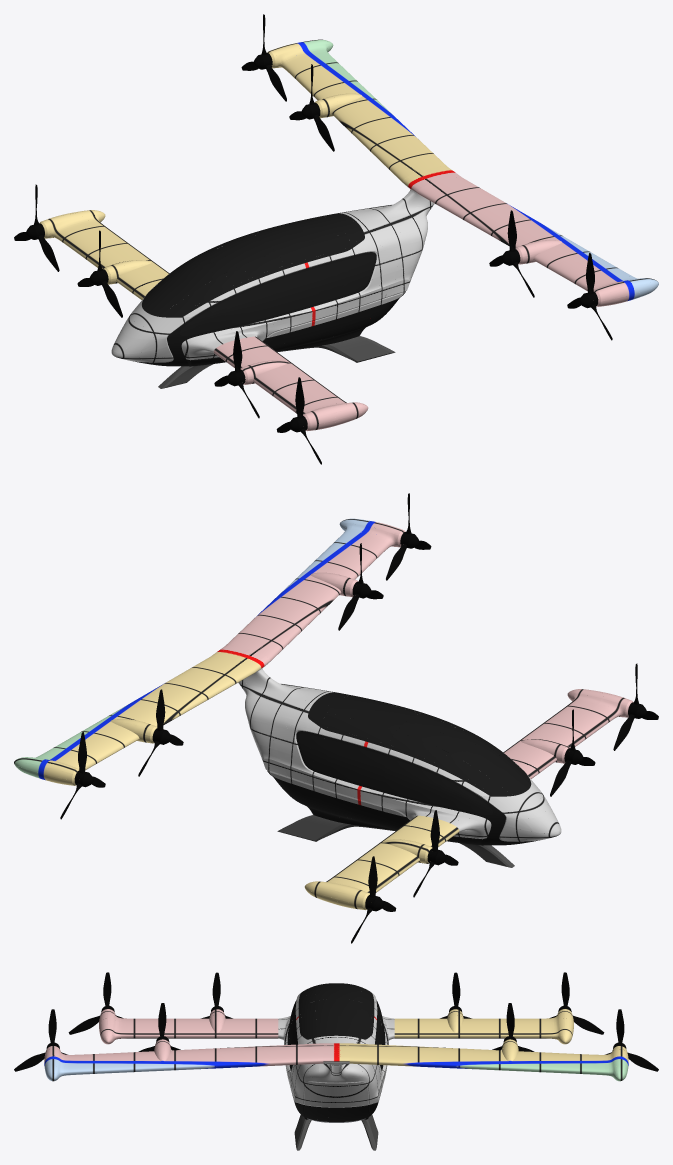
The model's file is aircraft_ar_offset_trial.glb.
3 renders of one model, top to bottom at view 1: azimuth 30°, elevation 25°; view 2: azimuth 150°, elevation 25°; view 3: azimuth 270°, elevation 25°, orthographic. The views are drawn at different scales.
Parts seen in each view (by area): view 1: SubdivFace#121687_5pct.001, SubdivFace#122001_5pct.001, SubdivFace#122443_5pct.001, SubdivFace#122271_5pct.001, SubdivFace#122562_trimdivide#22_5pct.001, SubdivFace#122435_5pct.001, SubdivFace#122009_5pct.001, SubdivFace#121698_5pct.001, SubdivFace#122561_5pct.001, SubdivFace#122265_5pct.001, SubdivFace#122564_trimdivide#16_5pct.001, SubdivFace#122354_5pct.001 (+10 smaller); view 2: SubdivFace#121687_5pct.001, SubdivFace#137287_trimdivide#12_5pct.001, SubdivFace#122443_5pct.001, SubdivFace#122562_trimdivide#22_5pct.001, SubdivFace#122271_5pct.001, SubdivFace#122435_5pct.001, SubdivFace#122009_5pct.001, SubdivFace#121698_5pct.001, SubdivFace#122265_5pct.001, SubdivFace#122561_5pct.001, SubdivFace#122354_5pct.001, SubdivFace#122564_trimdivide#16_5pct.001 (+10 smaller); view 3: SubdivFace#121687_5pct.001, SubdivFace#122265_5pct.001, SubdivFace#122561_5pct.001, SubdivFace#122443_5pct.001, SubdivFace#122364_5pct.001, SubdivFace#122563_5pct.001, SubdivFace#122562_trimdivide#22_5pct.001, SubdivFace#122271_5pct.001, SubdivFace#121724_5pct.001, SubdivFace#122354_5pct.001, SubdivFace#122564_trimdivide#16_5pct.001, SubdivFace#121692_5pct.001 (+20 smaller).
Boxes of the visible parts, x1,y1,x2,y2 form: SubdivFace#121687_5pct.001: [150, 166, 461, 360]; SubdivFace#122001_5pct.001: [180, 254, 374, 336]; SubdivFace#122443_5pct.001: [208, 214, 361, 271]; SubdivFace#122271_5pct.001: [417, 177, 635, 294]; SubdivFace#122562_trimdivide#22_5pct.001: [284, 52, 446, 182]; SubdivFace#122435_5pct.001: [144, 251, 245, 315]; SubdivFace#122009_5pct.001: [111, 296, 193, 362]; SubdivFace#121698_5pct.001: [186, 291, 405, 366]; SubdivFace#122561_5pct.001: [316, 56, 443, 165]; SubdivFace#122265_5pct.001: [448, 179, 628, 274]; SubdivFace#122564_trimdivide#16_5pct.001: [56, 221, 157, 299]; SubdivFace#122354_5pct.001: [213, 336, 346, 413]; SubdivFace#121687_5pct.001: [211, 645, 522, 839]; SubdivFace#137287_trimdivide#12_5pct.001: [298, 733, 492, 815]; SubdivFace#122443_5pct.001: [311, 693, 464, 750]; SubdivFace#122562_trimdivide#22_5pct.001: [37, 656, 255, 773]; SubdivFace#122271_5pct.001: [226, 531, 388, 661]; SubdivFace#122435_5pct.001: [427, 730, 528, 794]; SubdivFace#122009_5pct.001: [479, 767, 561, 841]; SubdivFace#121698_5pct.001: [267, 770, 486, 845]; SubdivFace#122265_5pct.001: [229, 535, 356, 644]; SubdivFace#122561_5pct.001: [44, 658, 224, 753]; SubdivFace#122354_5pct.001: [515, 700, 616, 778]; SubdivFace#122564_trimdivide#16_5pct.001: [327, 815, 459, 892]; SubdivFace#121687_5pct.001: [278, 992, 394, 1104]; SubdivFace#122265_5pct.001: [77, 1049, 318, 1074]; SubdivFace#122561_5pct.001: [354, 1049, 595, 1074]; SubdivFace#122443_5pct.001: [300, 985, 372, 1037]; SubdivFace#122364_5pct.001: [125, 1024, 270, 1038]; SubdivFace#122563_5pct.001: [402, 1024, 547, 1038]; SubdivFace#122562_trimdivide#22_5pct.001: [349, 1043, 604, 1075]; SubdivFace#122271_5pct.001: [68, 1043, 323, 1075]; SubdivFace#121724_5pct.001: [303, 1081, 369, 1107]; SubdivFace#122354_5pct.001: [121, 1018, 278, 1038]; SubdivFace#122564_trimdivide#16_5pct.001: [394, 1018, 551, 1038]; SubdivFace#121692_5pct.001: [303, 1105, 369, 1121].
Bounding box in the file's own units: 0.7008 × 0.3302 × 1.18.
9 materials, 3 textured.
